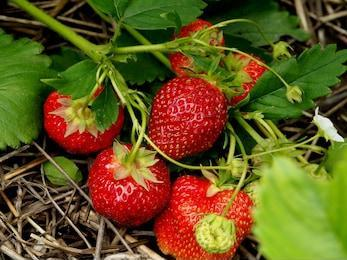Fresa: (166, 167, 256, 260), (145, 69, 231, 164), (87, 139, 173, 229), (42, 73, 126, 156)
